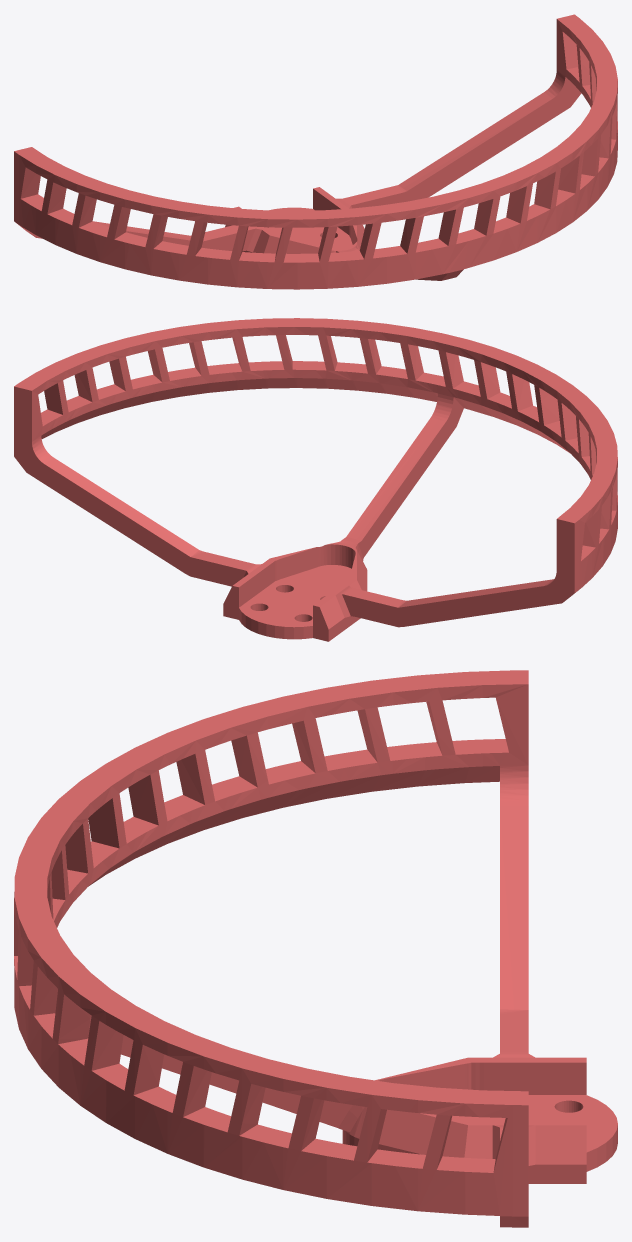
File: propguard.glb
The picture shows the model from 3 angles, top to bottom: view 1: azimuth 30°, elevation 25°; view 2: azimuth 150°, elevation 25°; view 3: azimuth 270°, elevation 25°; orthographic projection. The views are drawn at different scales.
Visible parts, largest first — view 1: f50e66e0-PROPGUARD2.STL; view 2: f50e66e0-PROPGUARD2.STL; view 3: f50e66e0-PROPGUARD2.STL.
Part boxes in pixels (left/top/right/bottom): f50e66e0-PROPGUARD2.STL: left=14, top=14, right=617, bottom=289; f50e66e0-PROPGUARD2.STL: left=14, top=318, right=617, bottom=641; f50e66e0-PROPGUARD2.STL: left=14, top=670, right=617, bottom=1227.
Size of the model in its own units: 0.1438 by 0.0394 by 0.0844.
